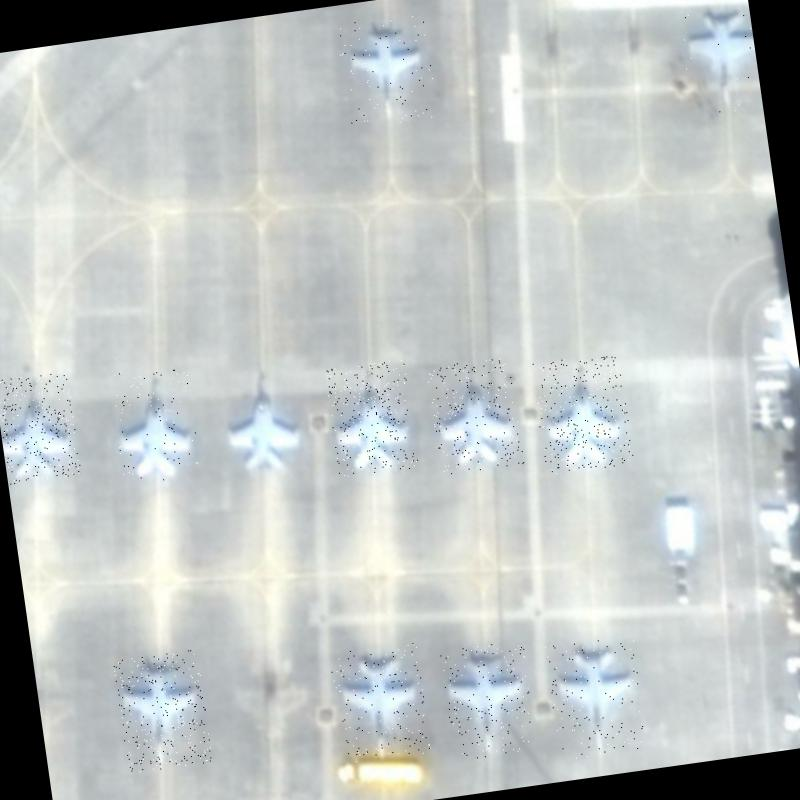A16: (544, 633, 648, 760), (530, 351, 634, 476), (328, 641, 431, 765), (112, 648, 212, 774), (335, 12, 438, 131), (439, 639, 538, 761), (426, 355, 524, 475), (108, 362, 202, 486), (324, 358, 419, 478), (214, 362, 310, 480), (674, 2, 762, 117), (0, 370, 81, 484)
